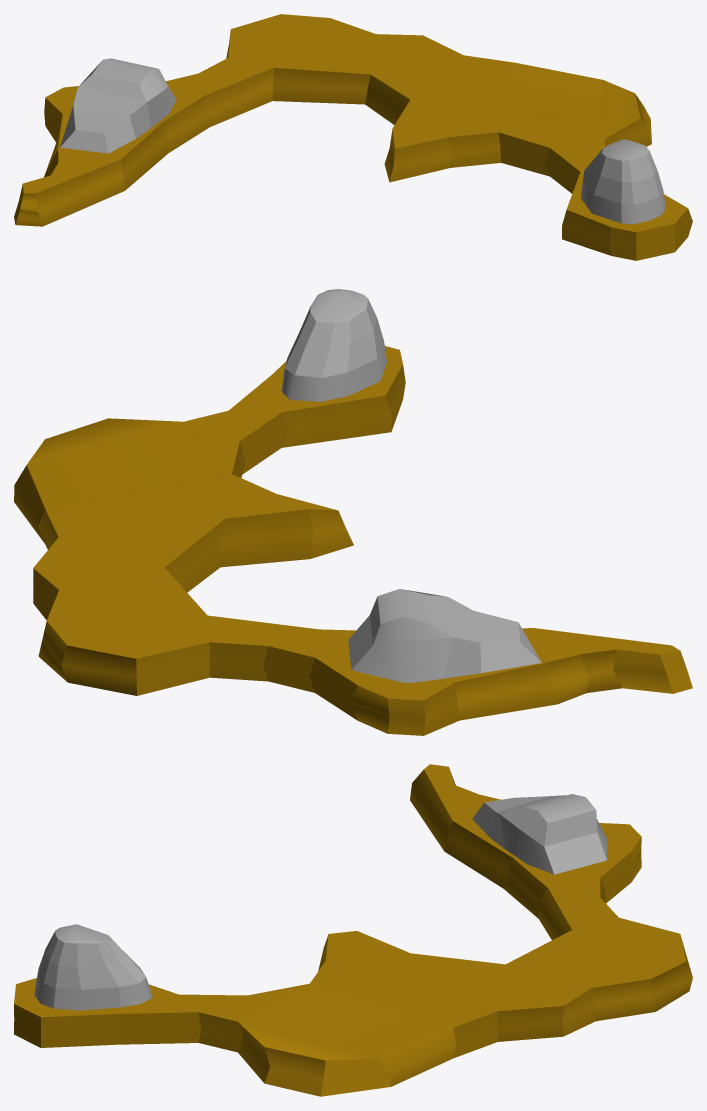
The model's file is montagne2.fbx.
3 views of the same model, one above another, from view 1: azimuth 30°, elevation 25°; view 2: azimuth 150°, elevation 25°; view 3: azimuth 270°, elevation 25° (orthographic). The views are drawn at different scales.
Parts seen in each view (by area): view 1: plateau_acces:plateau_acces, pCube2, pCube1; view 2: plateau_acces:plateau_acces, pCube2, pCube1; view 3: plateau_acces:plateau_acces, pCube2, pCube1.
Part boxes in pixels (x1,y1,x2,y2): plateau_acces:plateau_acces: (14,14,692,260); pCube2: (60,58,176,153); pCube1: (581,139,665,223); plateau_acces:plateau_acces: (14,346,692,735); pCube2: (348,589,541,682); pCube1: (281,289,386,401); plateau_acces:plateau_acces: (14,764,692,1096); pCube2: (472,794,606,874); pCube1: (34,924,152,1010).
Bounding box in the file's own units: 72.1 × 10.63 × 67.49.
